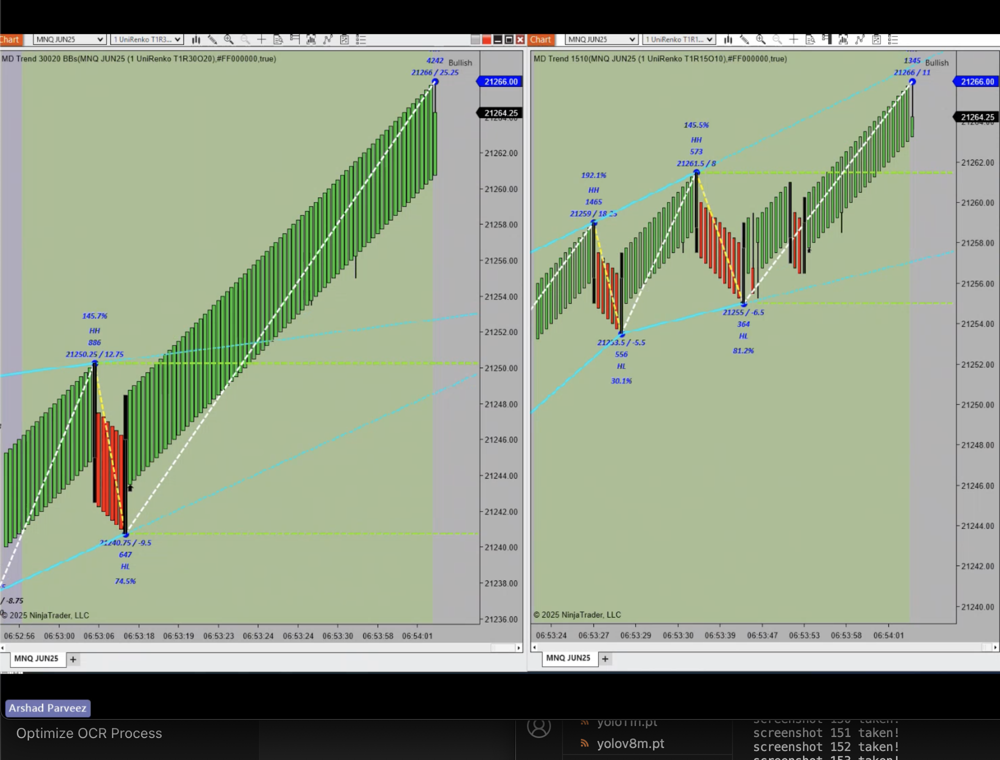HH: (583, 184, 609, 200), (83, 323, 107, 339), (688, 132, 709, 149)
HL: (734, 327, 761, 347), (115, 558, 141, 575), (611, 359, 633, 377)
